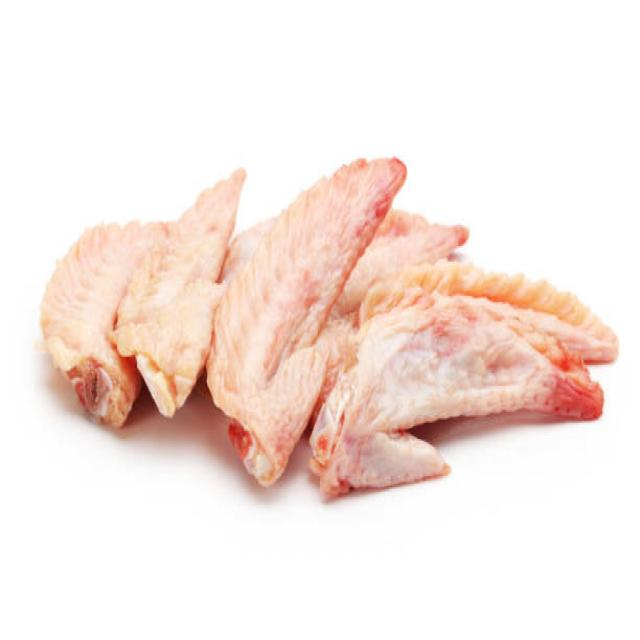Chicken Wing: (225, 152, 613, 500)
